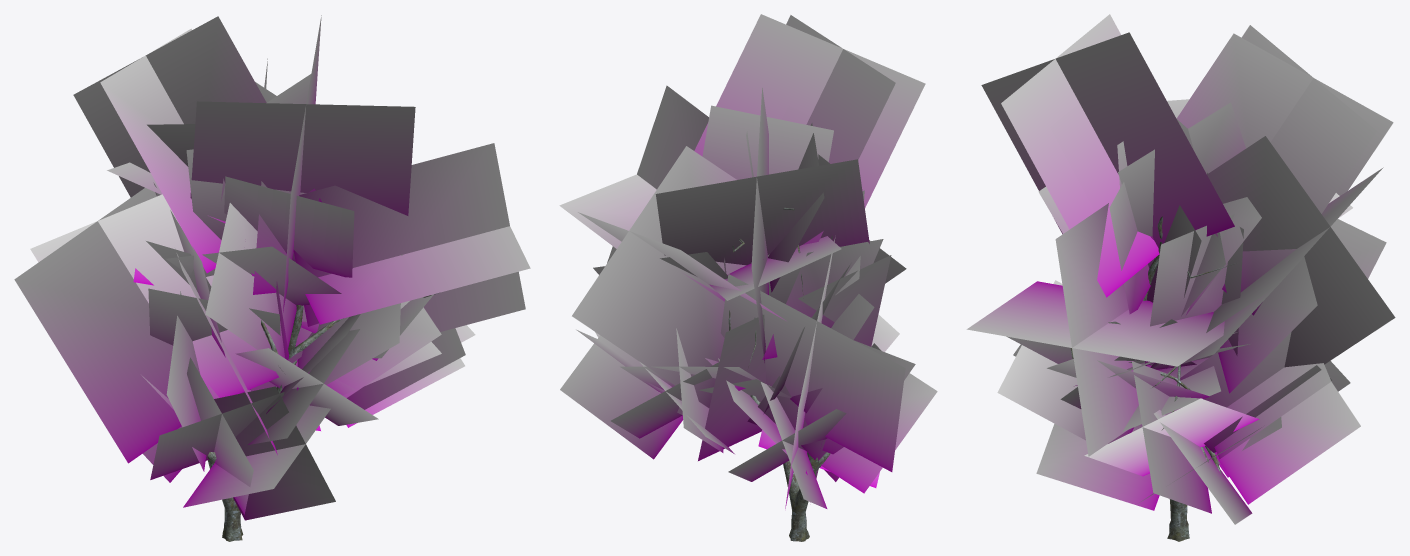
File: Tree_A.fbx
The picture shows the model from 3 angles, left to right: view 1: azimuth 30°, elevation 25°; view 2: azimuth 150°, elevation 25°; view 3: azimuth 270°, elevation 25°; orthographic projection. The views are drawn at different scales.
Parts seen in each view (by area): view 1: Tree_A; view 2: Tree_A; view 3: Tree_A.
Part boxes in pixels (box(x1,y1,x2,y2)): Tree_A: box(14, 15, 530, 541); Tree_A: box(559, 14, 937, 541); Tree_A: box(966, 14, 1395, 541).
Bounding box in the file's own units: 2532 × 3008 × 2179.
